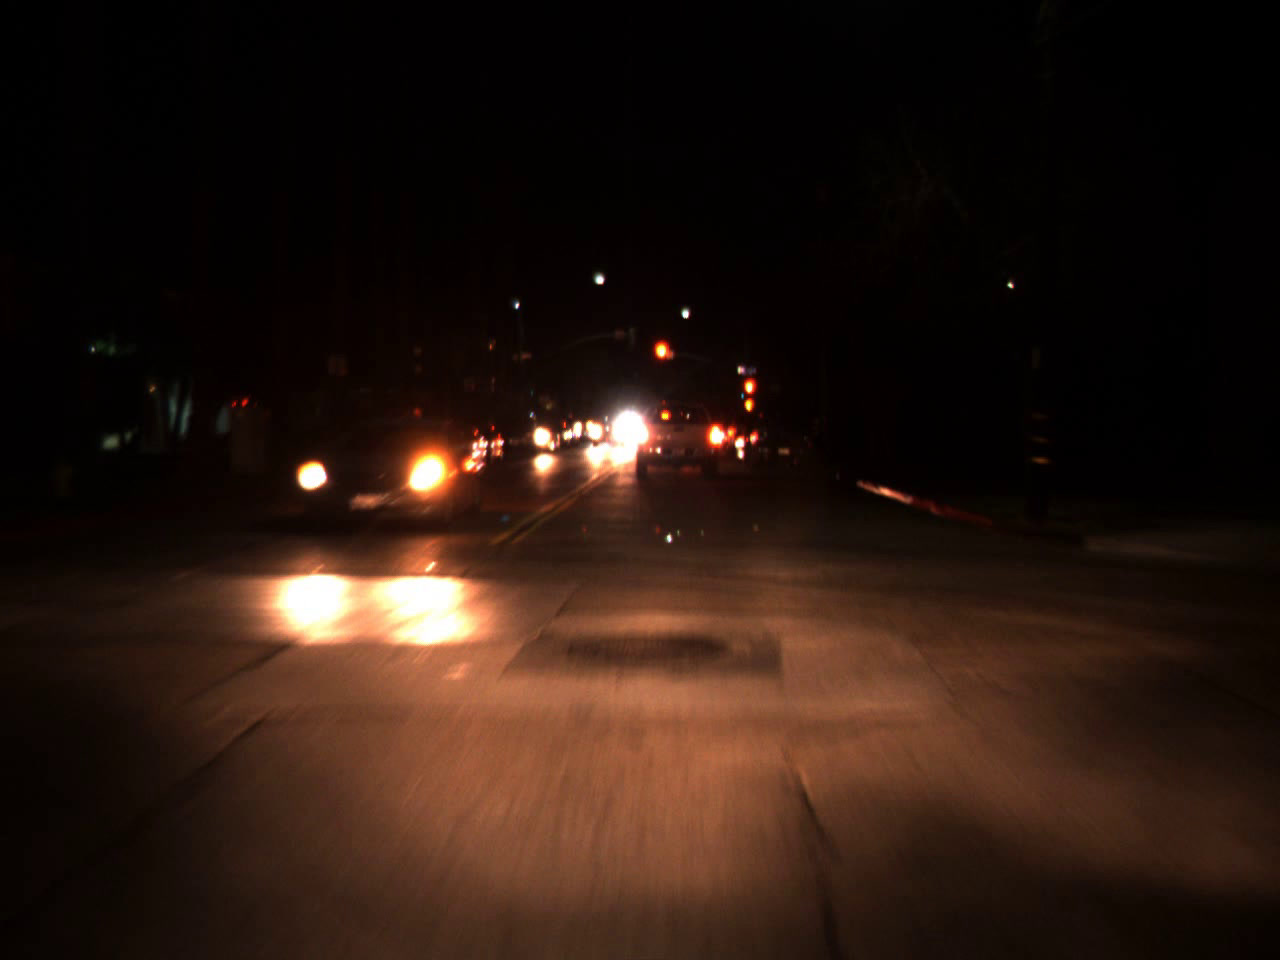stop: (650, 338, 675, 381), (742, 376, 757, 413)
